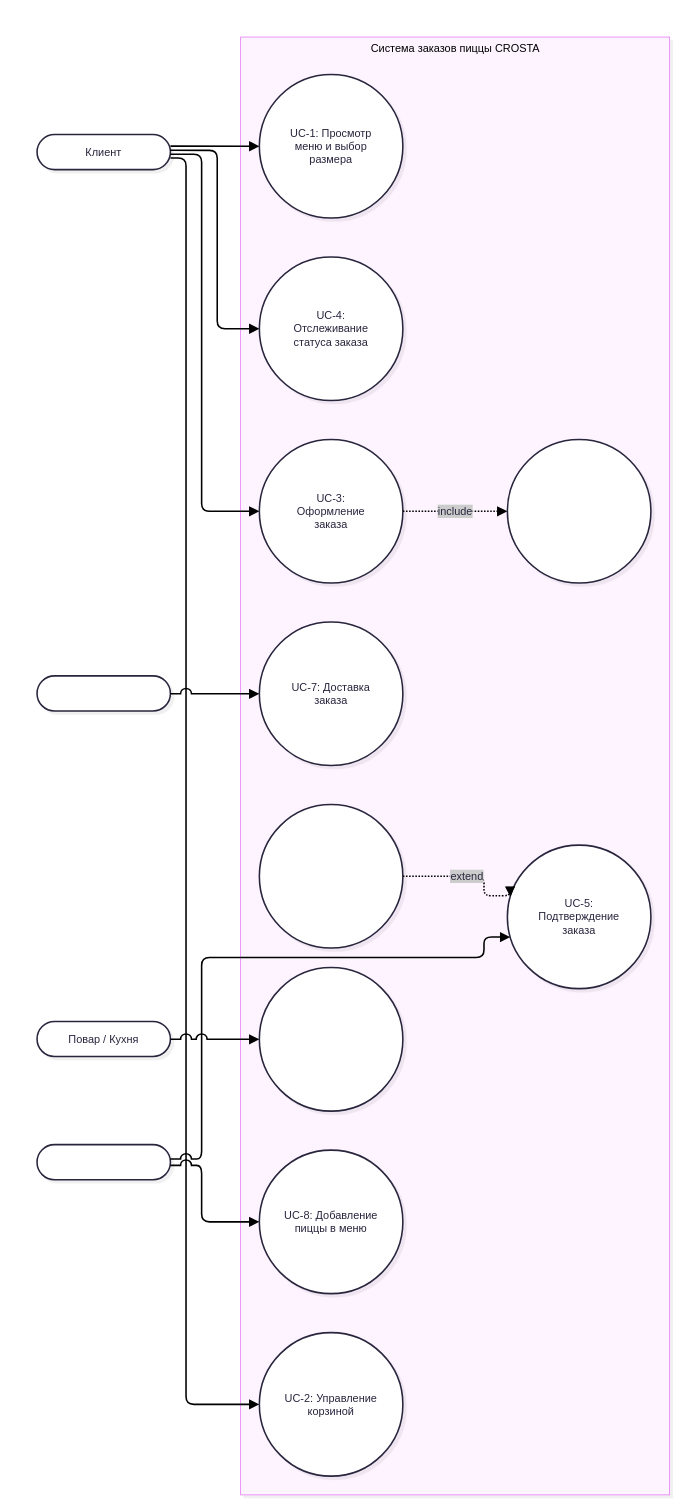
Some shapes in this 686 by 1512 pixel diagram are drawn without their labels. Here are the shapes that lost their labels. From the top down, the centre of each, then its label:
At pixel 580 512: "Валидация GDPR и расчёт НДС".
At pixel 105 694: "Курьер".
At pixel 332 877: "Отмена заказа".
At pixel 332 1040: "UC-6: Приготовление и выпечка".
At pixel 105 1163: "Менеджер смены".
